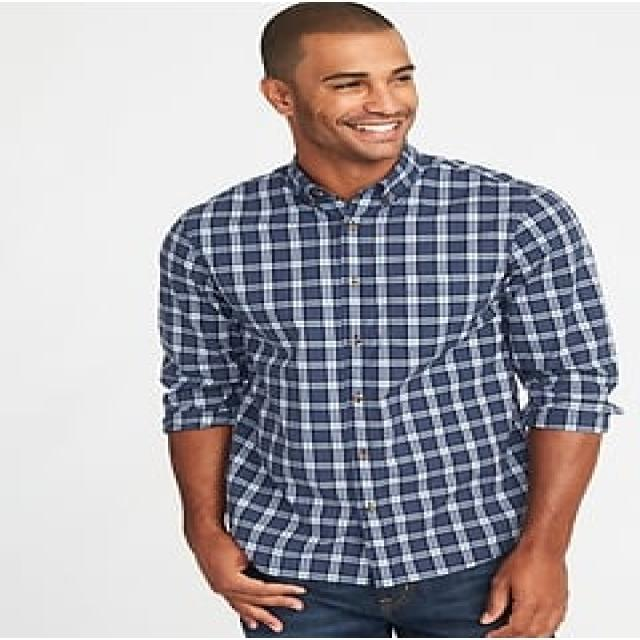human: (133, 3, 640, 640)
